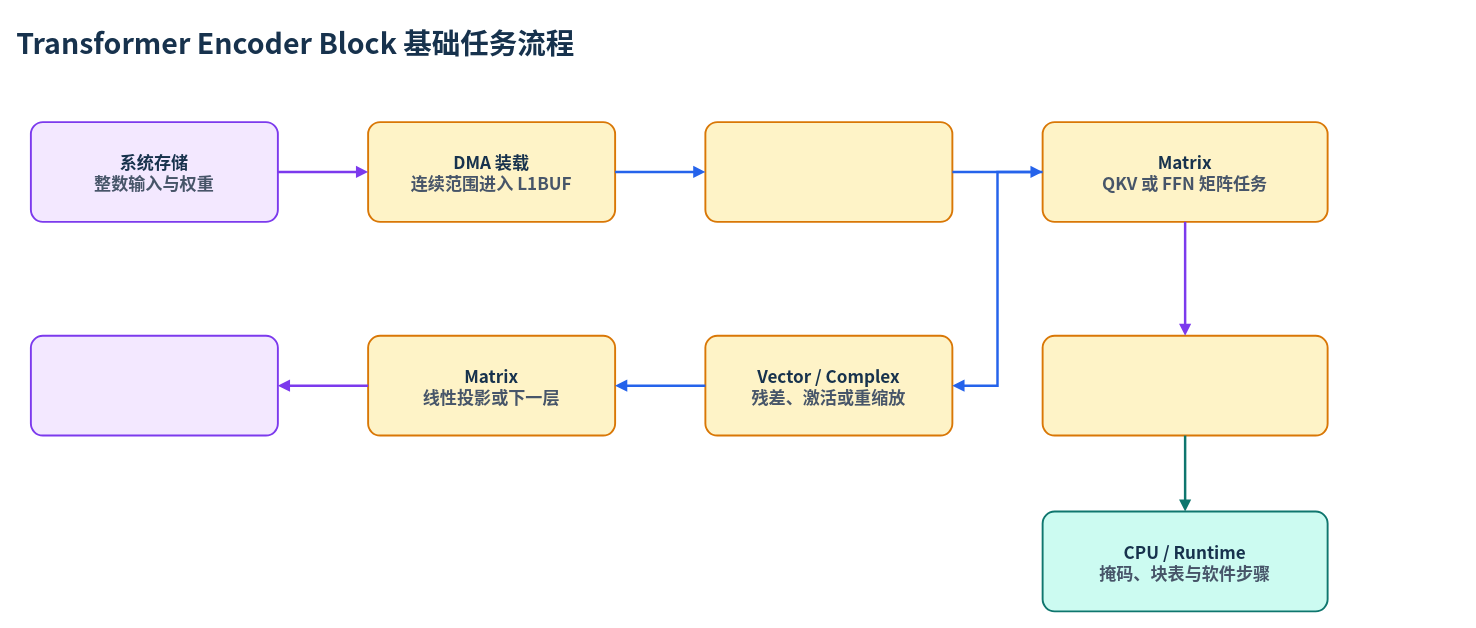
Some shapes in this 1476 by 628 pixel diagram are drawn without their labels. Each missing label, with the centre of its shape:
Complex Norm LayerNorm 或 RMSNorm: (828,171)
DMA 布局整理 Transpose、Pack 或 Split: (1184,385)
DMA 输出 写回或供下一任务读取: (153,385)
